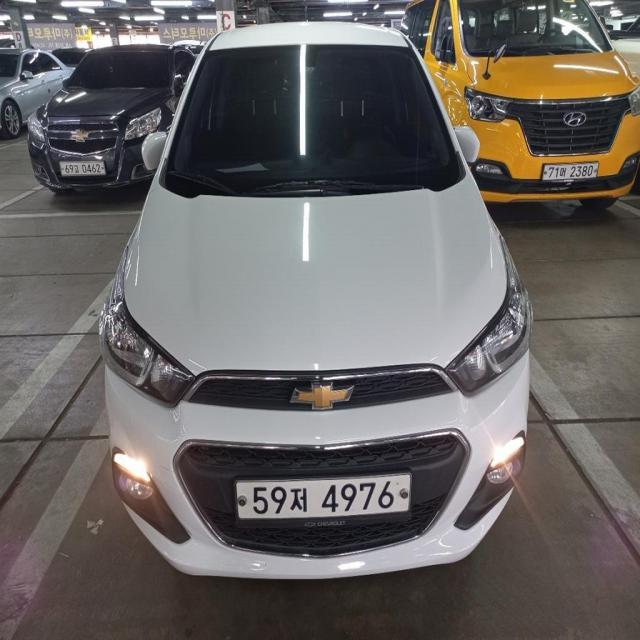car: (97, 11, 540, 587)
illegal_plate: (233, 473, 413, 531)
